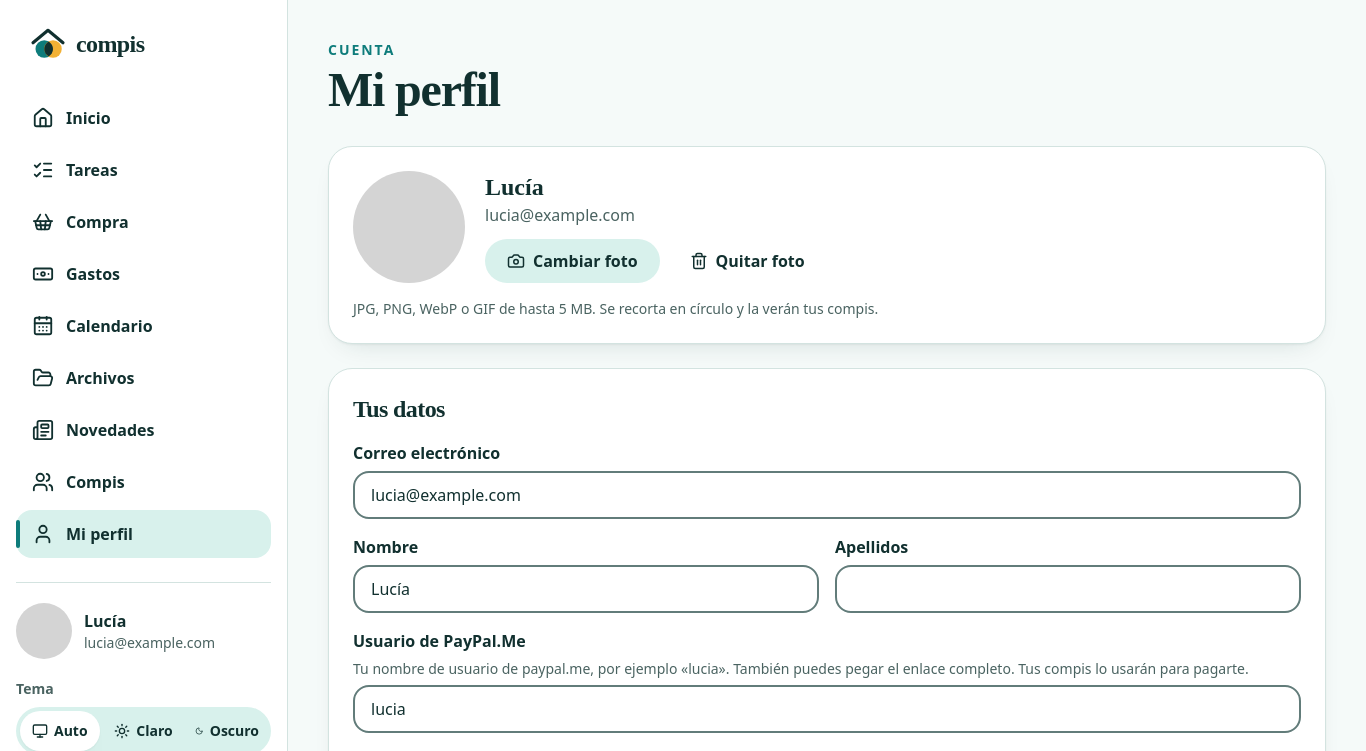
Test: profile picture › removes the photo
Click the button "Quitar foto" at point(747, 261), box [668,239,827,283]
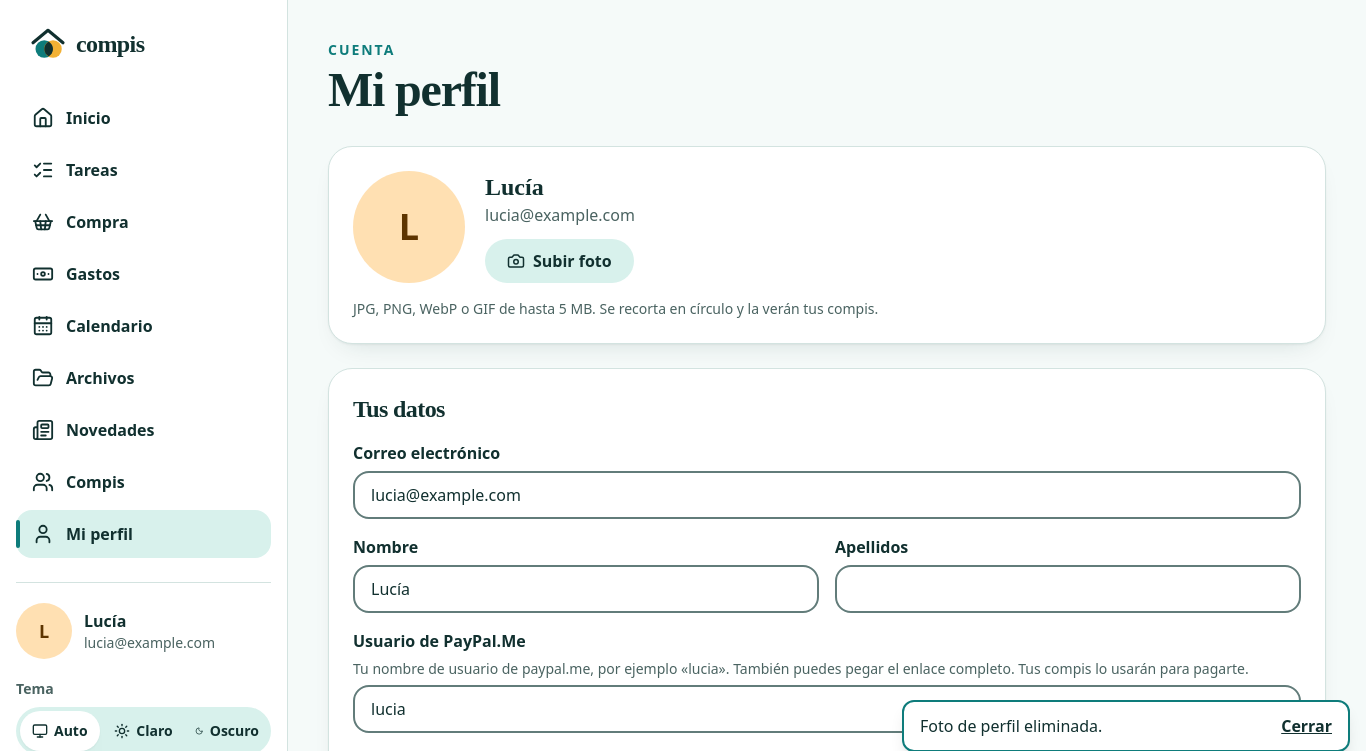
expect the text "Foto de perfil eliminada." is shown: met, box [920,715,1102,737]
expect the button "Subir foto" is shown: met, box [485,239,634,283]
